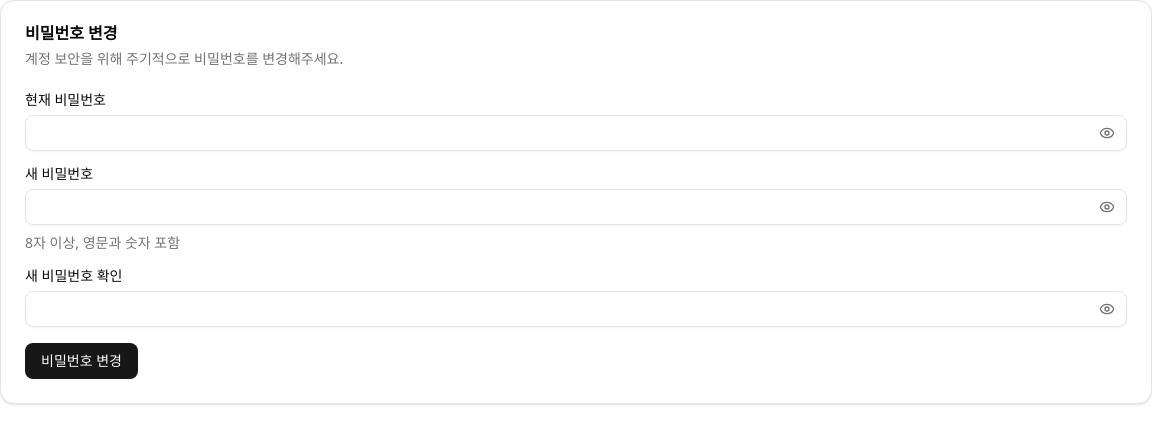
PasswordChangeSection › 로딩 상태 › 제출 중에 "변경 중..." 텍스트가 표시된다
Type "current123" into the password field labelled "현재 비밀번호". click: (576, 133)
box: [25,115,1127,151]
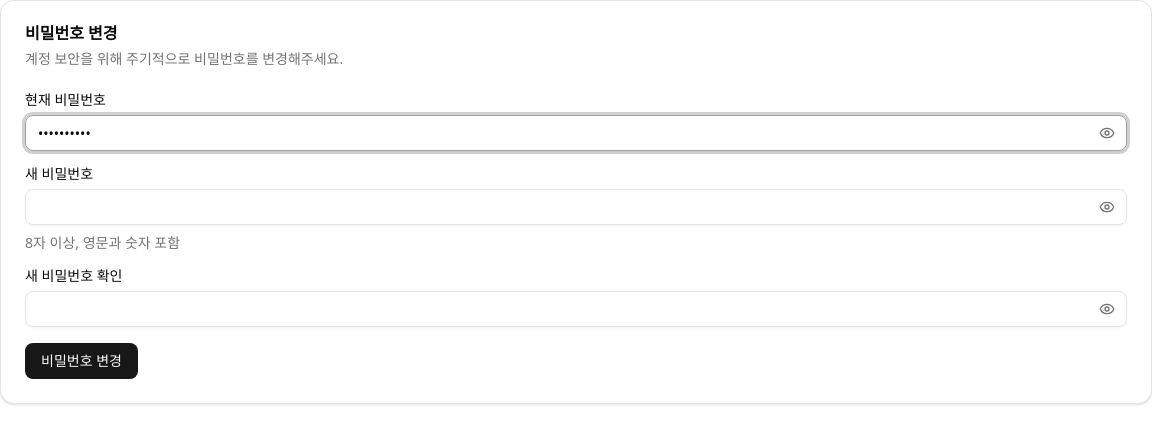
Type "newPass123" into the password field labelled "새 비밀번호". click: (576, 207)
box: [25,189,1127,225]
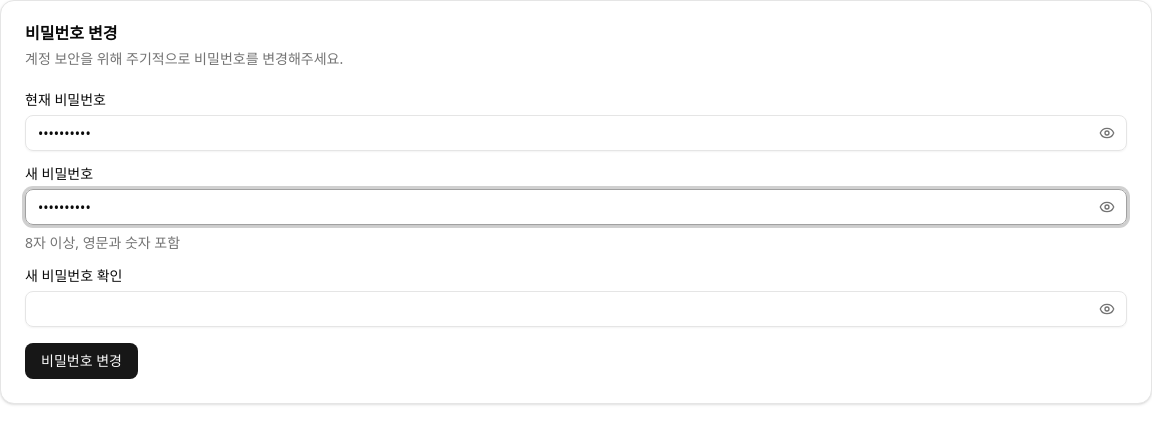
Type "newPass123" into the password field labelled "새 비밀번호 확인". click: (576, 309)
box: [25,291,1127,327]
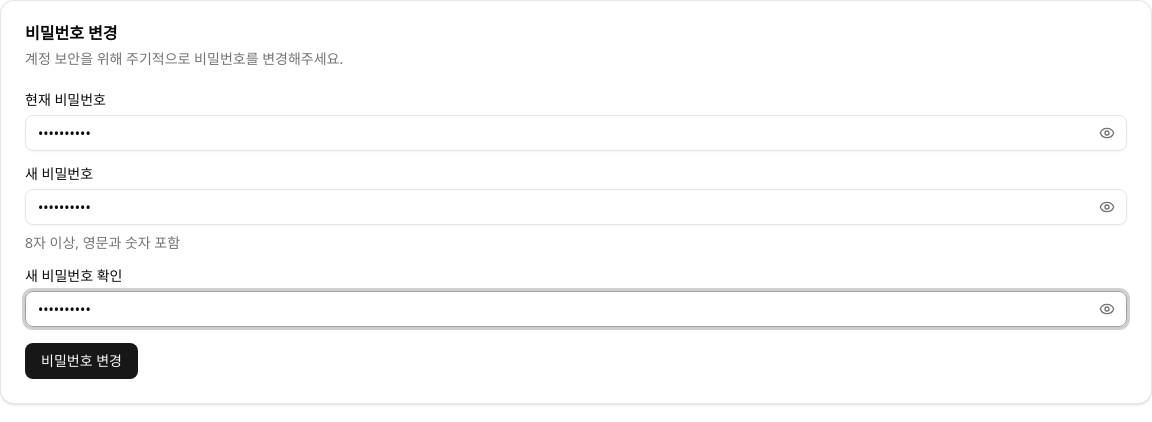
Click the button "비밀번호 변경". click: (81, 361)
box: [25,343,138,379]
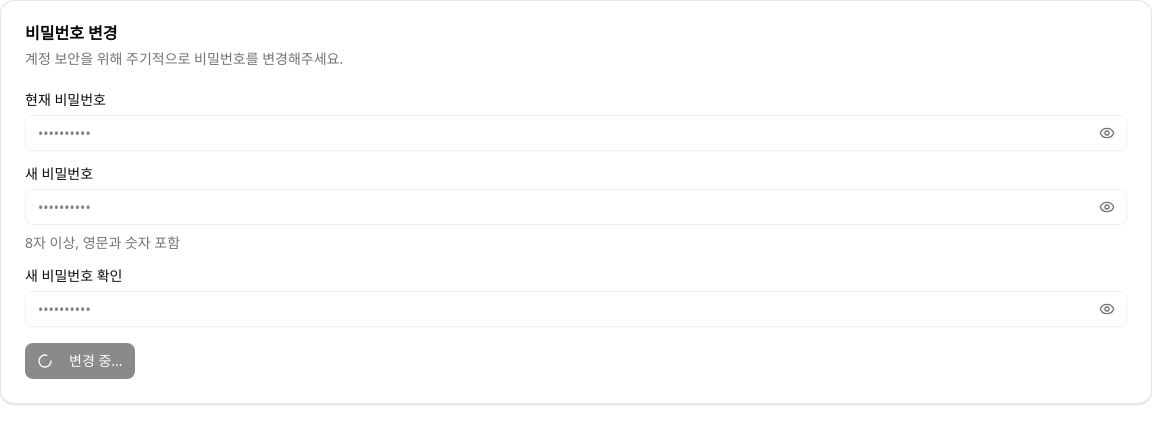
Result: the button "변경 중..." is shown at [25,343,134,379]
